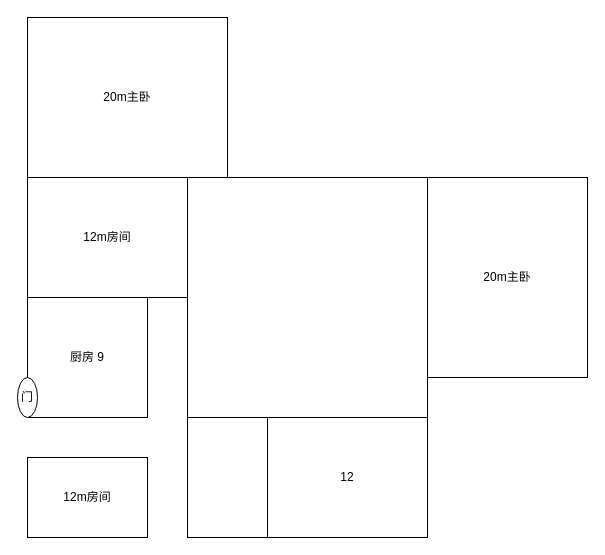
This 605x555 diagram has some shape labels left out. The shapes that lost their labels are listed below. From the top down, each one's centre as x and y in pixels, then its label:
At (307,297): "客厅30m".
At (227,477): "6m厕所".
